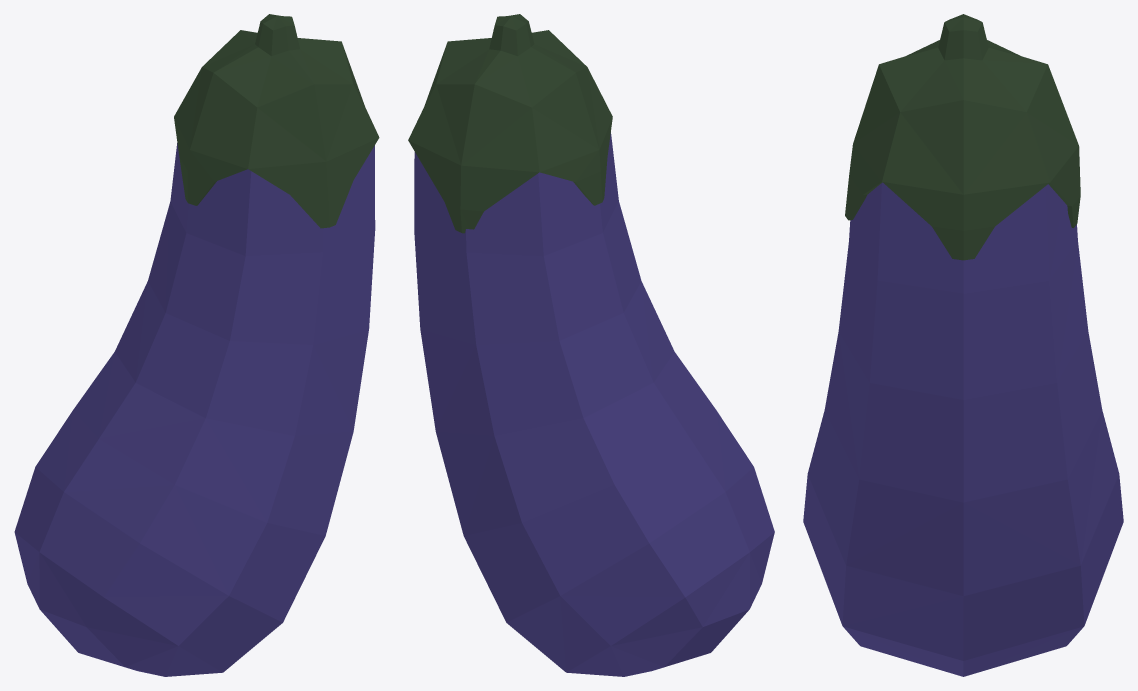
File: Eggplant.glb
3 renders of one model, left to right at view 1: azimuth 30°, elevation 25°; view 2: azimuth 150°, elevation 25°; view 3: azimuth 270°, elevation 25°, orthographic. The views are drawn at different scales.
Visible parts, largest first — view 1: Eggplant; view 2: Eggplant; view 3: Eggplant.
Part boxes in pixels (x1,y1,x2,y2): Eggplant: [14, 14, 379, 676]; Eggplant: [408, 14, 774, 676]; Eggplant: [803, 14, 1123, 676].
Size of the model in its own units: 0.9623 by 1.75 by 0.718.
